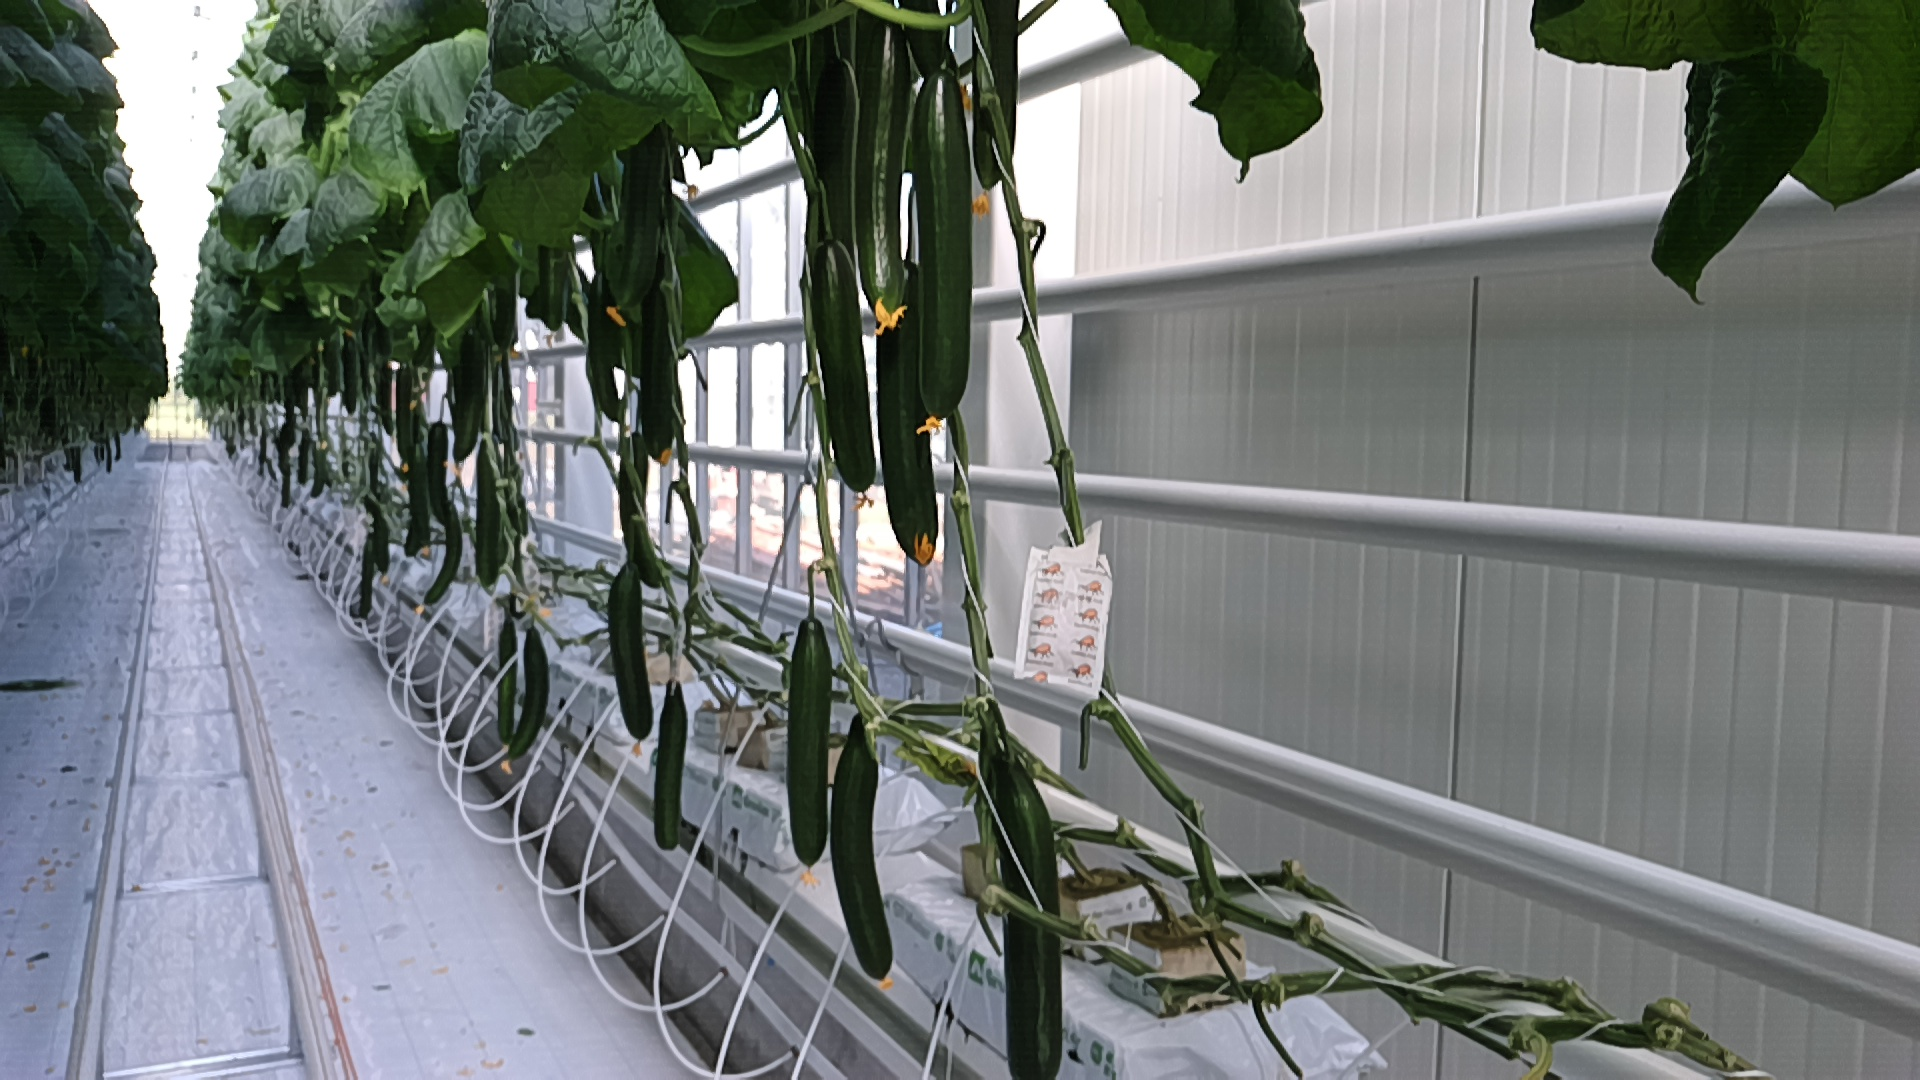gurka: (964, 721, 1075, 1080), (903, 58, 986, 446), (796, 228, 885, 506), (822, 704, 909, 982), (779, 604, 833, 874), (605, 547, 654, 742), (649, 669, 691, 857), (508, 620, 550, 775), (491, 608, 525, 746)
